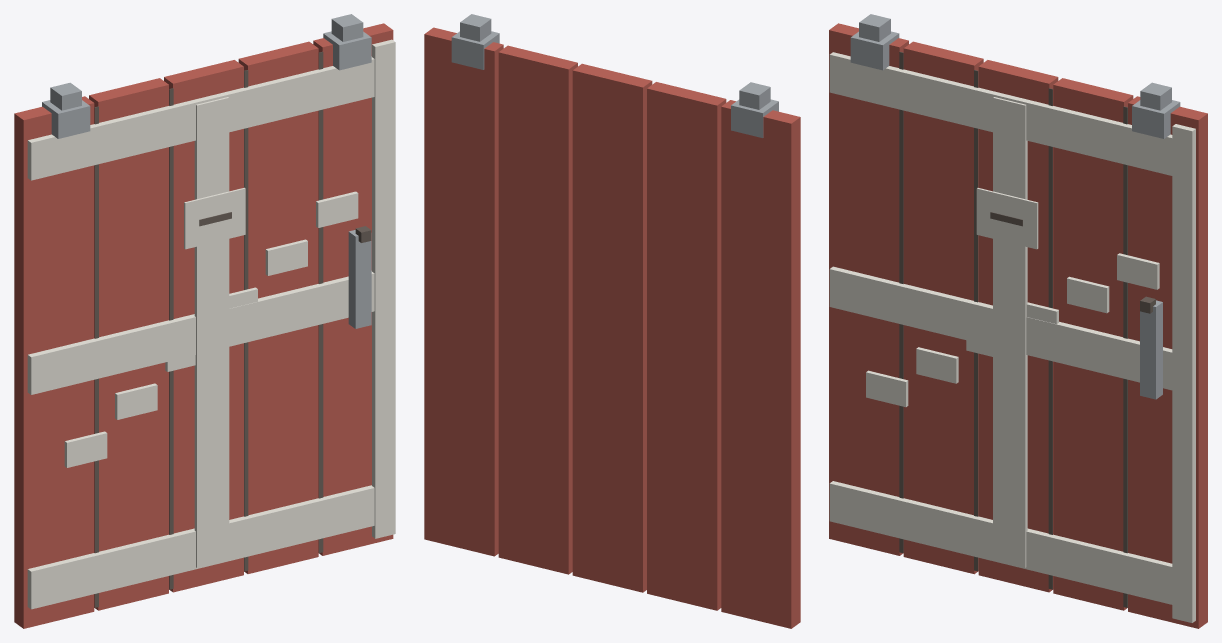
File: rv_sliding_door.gltf
3 renders of one model, left to right at view 1: azimuth 30°, elevation 25°; view 2: azimuth 150°, elevation 25°; view 3: azimuth 330°, elevation 25°, orthographic.
Visible parts, largest first — view 1: RV_SlidingDoor; view 2: RV_SlidingDoor; view 3: RV_SlidingDoor.
Part boxes in pixels (box(x1,y1,x2,y2)): RV_SlidingDoor: box(14, 14, 395, 628); RV_SlidingDoor: box(424, 14, 800, 628); RV_SlidingDoor: box(829, 14, 1207, 628).
Bounding box in the file's own units: 1.84 × 2.51 × 0.2.
